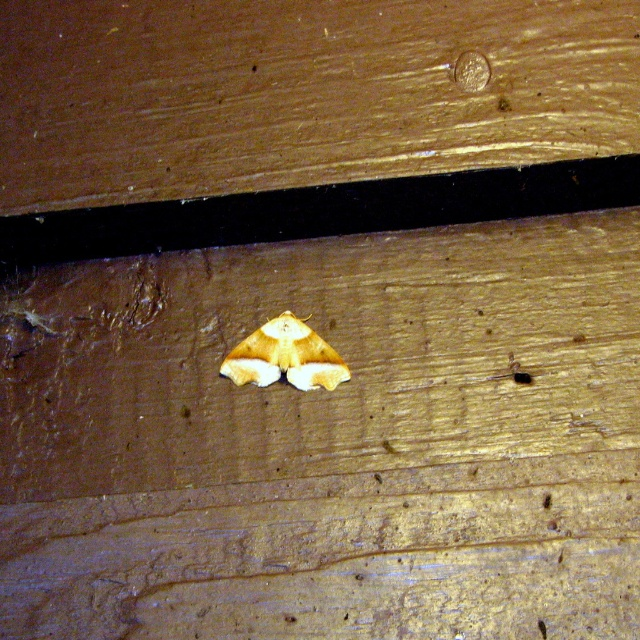Moths and butterflies: (220, 311, 353, 390)
